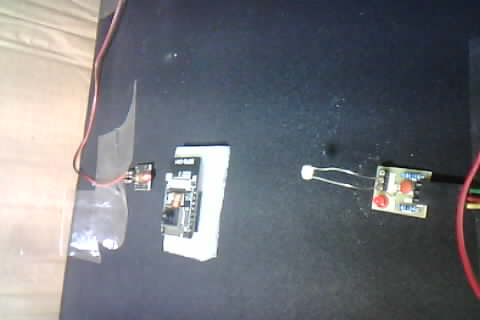esp32: (159, 145, 227, 260)
